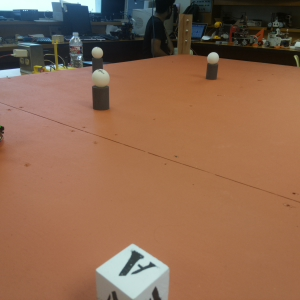blockA: (92, 240, 175, 300)
corner: (176, 11, 193, 61)
obstacle: (91, 70, 112, 111), (204, 50, 221, 81), (92, 47, 107, 68)
